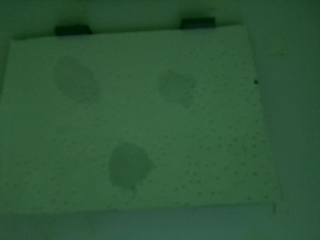Water_detected: (160, 72, 194, 108), (117, 154, 147, 189), (65, 72, 94, 106)
